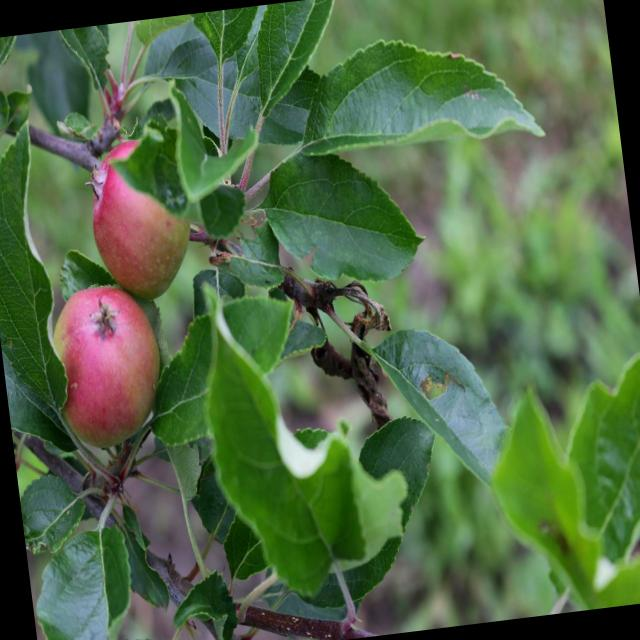-FireBlight-: (264, 252, 406, 434)
